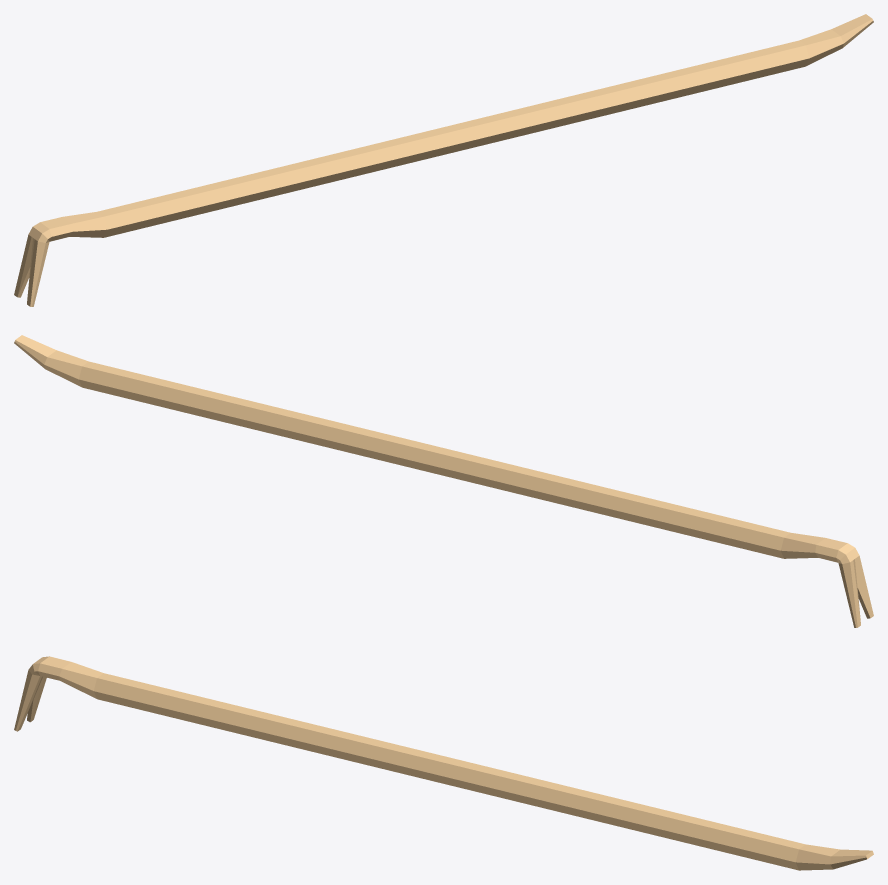
File: crowbar.glb
The picture shows the model from 3 angles, top to bottom: view 1: azimuth 30°, elevation 25°; view 2: azimuth 150°, elevation 25°; view 3: azimuth 330°, elevation 25°; orthographic projection.
Visible parts, largest first — view 1: Crowbar; view 2: Crowbar; view 3: Crowbar.
Boxes of the visible parts, x1=… form: Crowbar: x1=14, y1=14, x2=873, y2=306; Crowbar: x1=14, y1=335, x2=873, y2=627; Crowbar: x1=14, y1=656, x2=873, y2=870.
Bounding box in the file's own units: 0.7253 × 0.0643 × 0.024.
